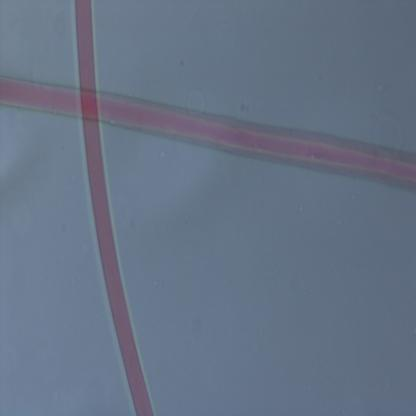Microfibre: (0, 74, 416, 190), (75, 0, 156, 416)
